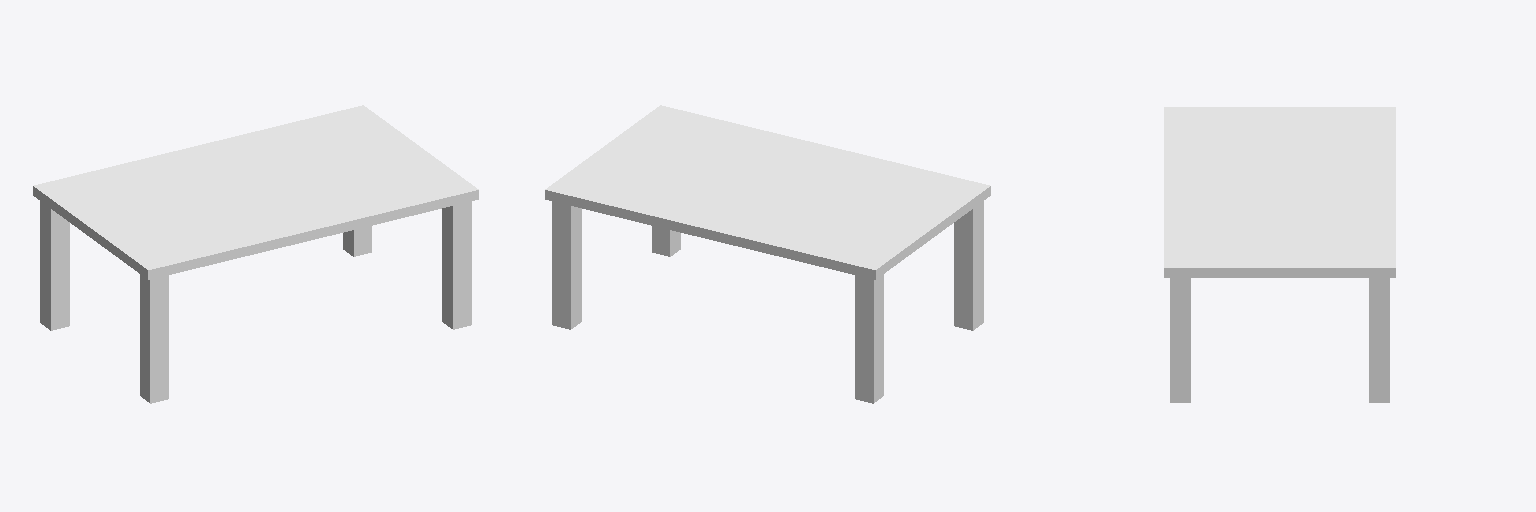
Rendered from metaltable.obj.
The picture shows the model from 3 angles: view 1: azimuth 30°, elevation 25°; view 2: azimuth 150°, elevation 25°; view 3: azimuth 270°, elevation 25°; orthographic projection.
Parts seen in each view (by area): view 1: metaltable; view 2: metaltable; view 3: metaltable.
Part boxes in pixels (bbox=[...]): metaltable: bbox=[33, 105, 478, 403]; metaltable: bbox=[545, 105, 990, 403]; metaltable: bbox=[1164, 107, 1395, 402].
Bounding box in the file's own units: 71 × 28 × 43.